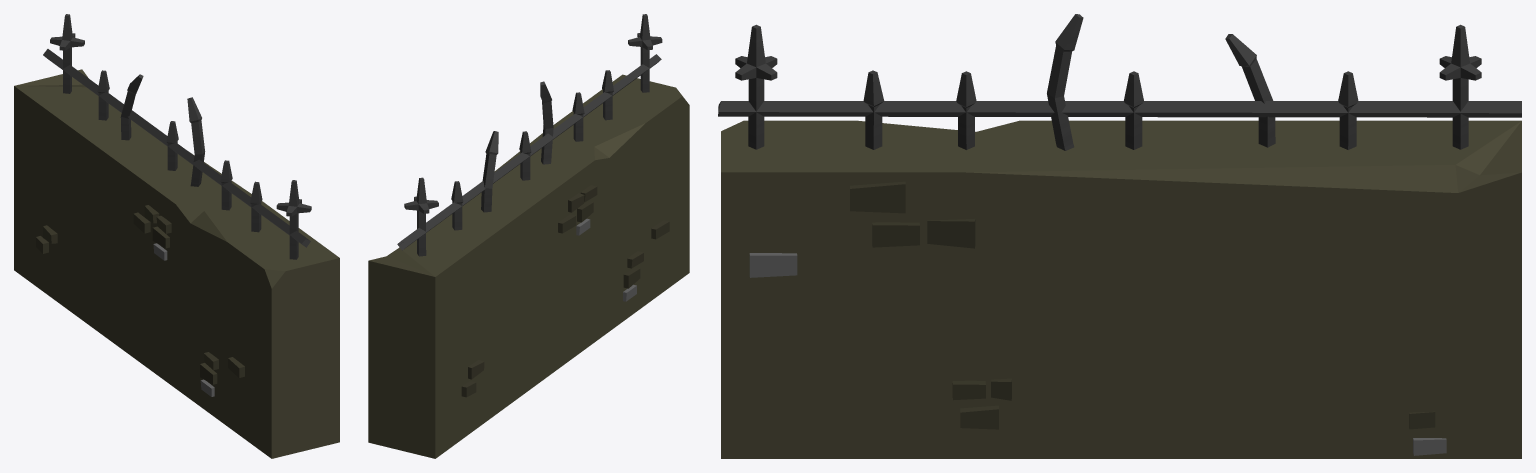
Rendered from ea_arch_wall03_seam_01_pre_1_lev1.glb.
3 views of the same model, side by side, from view 1: azimuth 30°, elevation 25°; view 2: azimuth 150°, elevation 25°; view 3: azimuth 270°, elevation 25° (orthographic). The views are drawn at different scales.
Visible parts, largest first — view 1: ea_arch_wall03_seam_01_pre_1_lev1; view 2: ea_arch_wall03_seam_01_pre_1_lev1; view 3: ea_arch_wall03_seam_01_pre_1_lev1.
Part boxes in pixels (<box>): ea_arch_wall03_seam_01_pre_1_lev1: <box>14,14,339,458</box>; ea_arch_wall03_seam_01_pre_1_lev1: <box>368,14,689,458</box>; ea_arch_wall03_seam_01_pre_1_lev1: <box>718,14,1521,458</box>.
Size of the model in its own units: 0.8663 by 2.79 by 4.85.
Materials: 1 (1 with a texture image).
